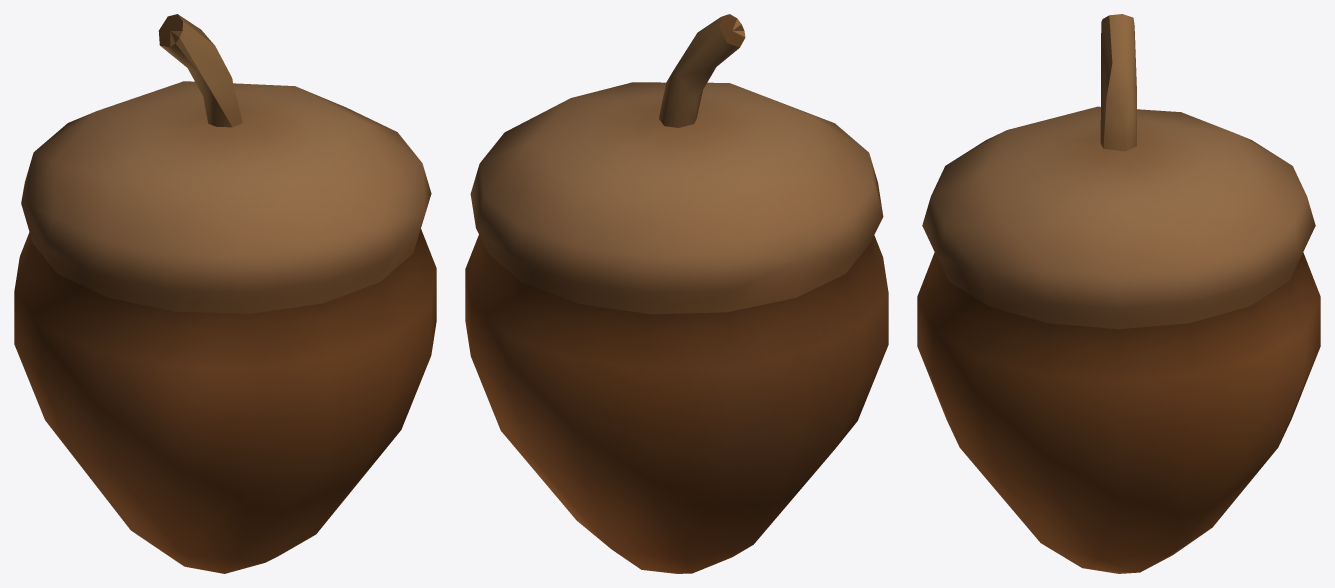
The model's file is FOD0110001.fbx.
3 views of the same model, side by side, from view 1: azimuth 30°, elevation 25°; view 2: azimuth 150°, elevation 25°; view 3: azimuth 270°, elevation 25° (orthographic). The views are drawn at different scales.
Parts seen in each view (by area): view 1: smFOD0110001; view 2: smFOD0110001; view 3: smFOD0110001.
Part boxes in pixels (x1,y1,x2,y2): smFOD0110001: (14,14,436,573); smFOD0110001: (465,14,888,573); smFOD0110001: (917,14,1320,573).
Bounding box in the file's own units: 4.65 × 6.85 × 4.65.
1 material, 1 textured.
